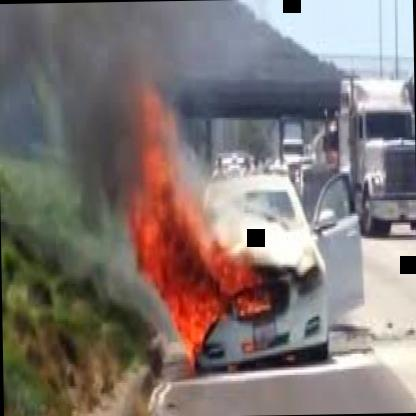fire: (107, 107, 256, 331)
